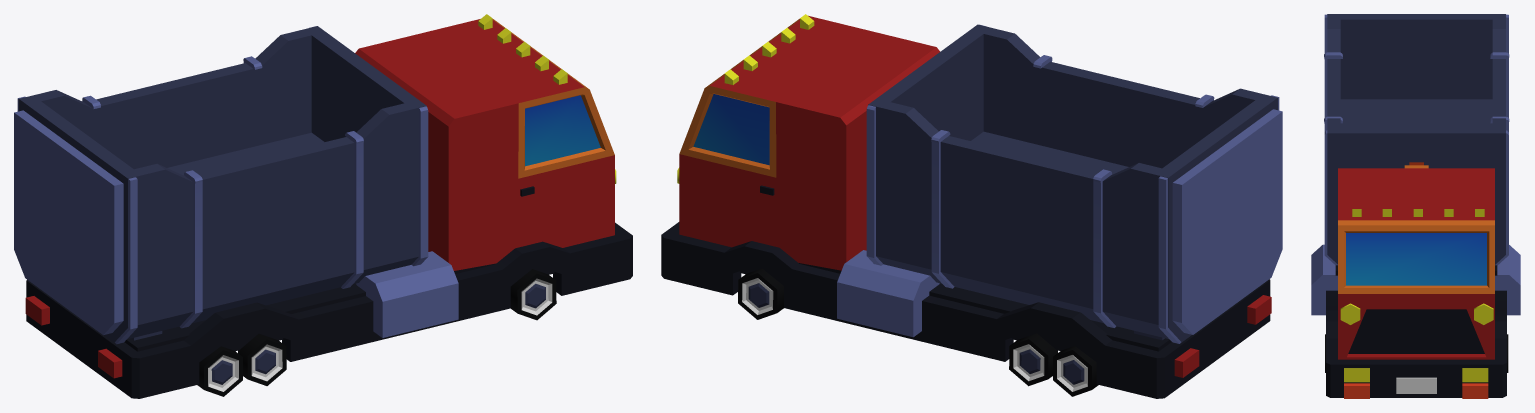
File: Factory_truck.FBX
The picture shows the model from 3 angles, left to right: view 1: azimuth 30°, elevation 25°; view 2: azimuth 150°, elevation 25°; view 3: azimuth 270°, elevation 25°; orthographic projection. The views are drawn at different scales.
Visible parts, largest first — view 1: Truck005, wheell008, wheell007, wheell009; view 2: Truck005, wheell011, wheell010, wheell012; view 3: Truck005.
Boxes of the visible parts, <box> form: Truck005: <box>14,14,632,398</box>; wheell008: <box>238,333,286,385</box>; wheell007: <box>510,269,556,320</box>; wheell009: <box>197,346,242,396</box>; Truck005: <box>661,14,1282,398</box>; wheell011: <box>1009,333,1057,386</box>; wheell010: <box>738,268,783,319</box>; wheell012: <box>1053,346,1098,396</box>; Truck005: <box>1311,14,1520,398</box>.
Bounding box in the file's own units: 113 × 49.65 × 48.06.
